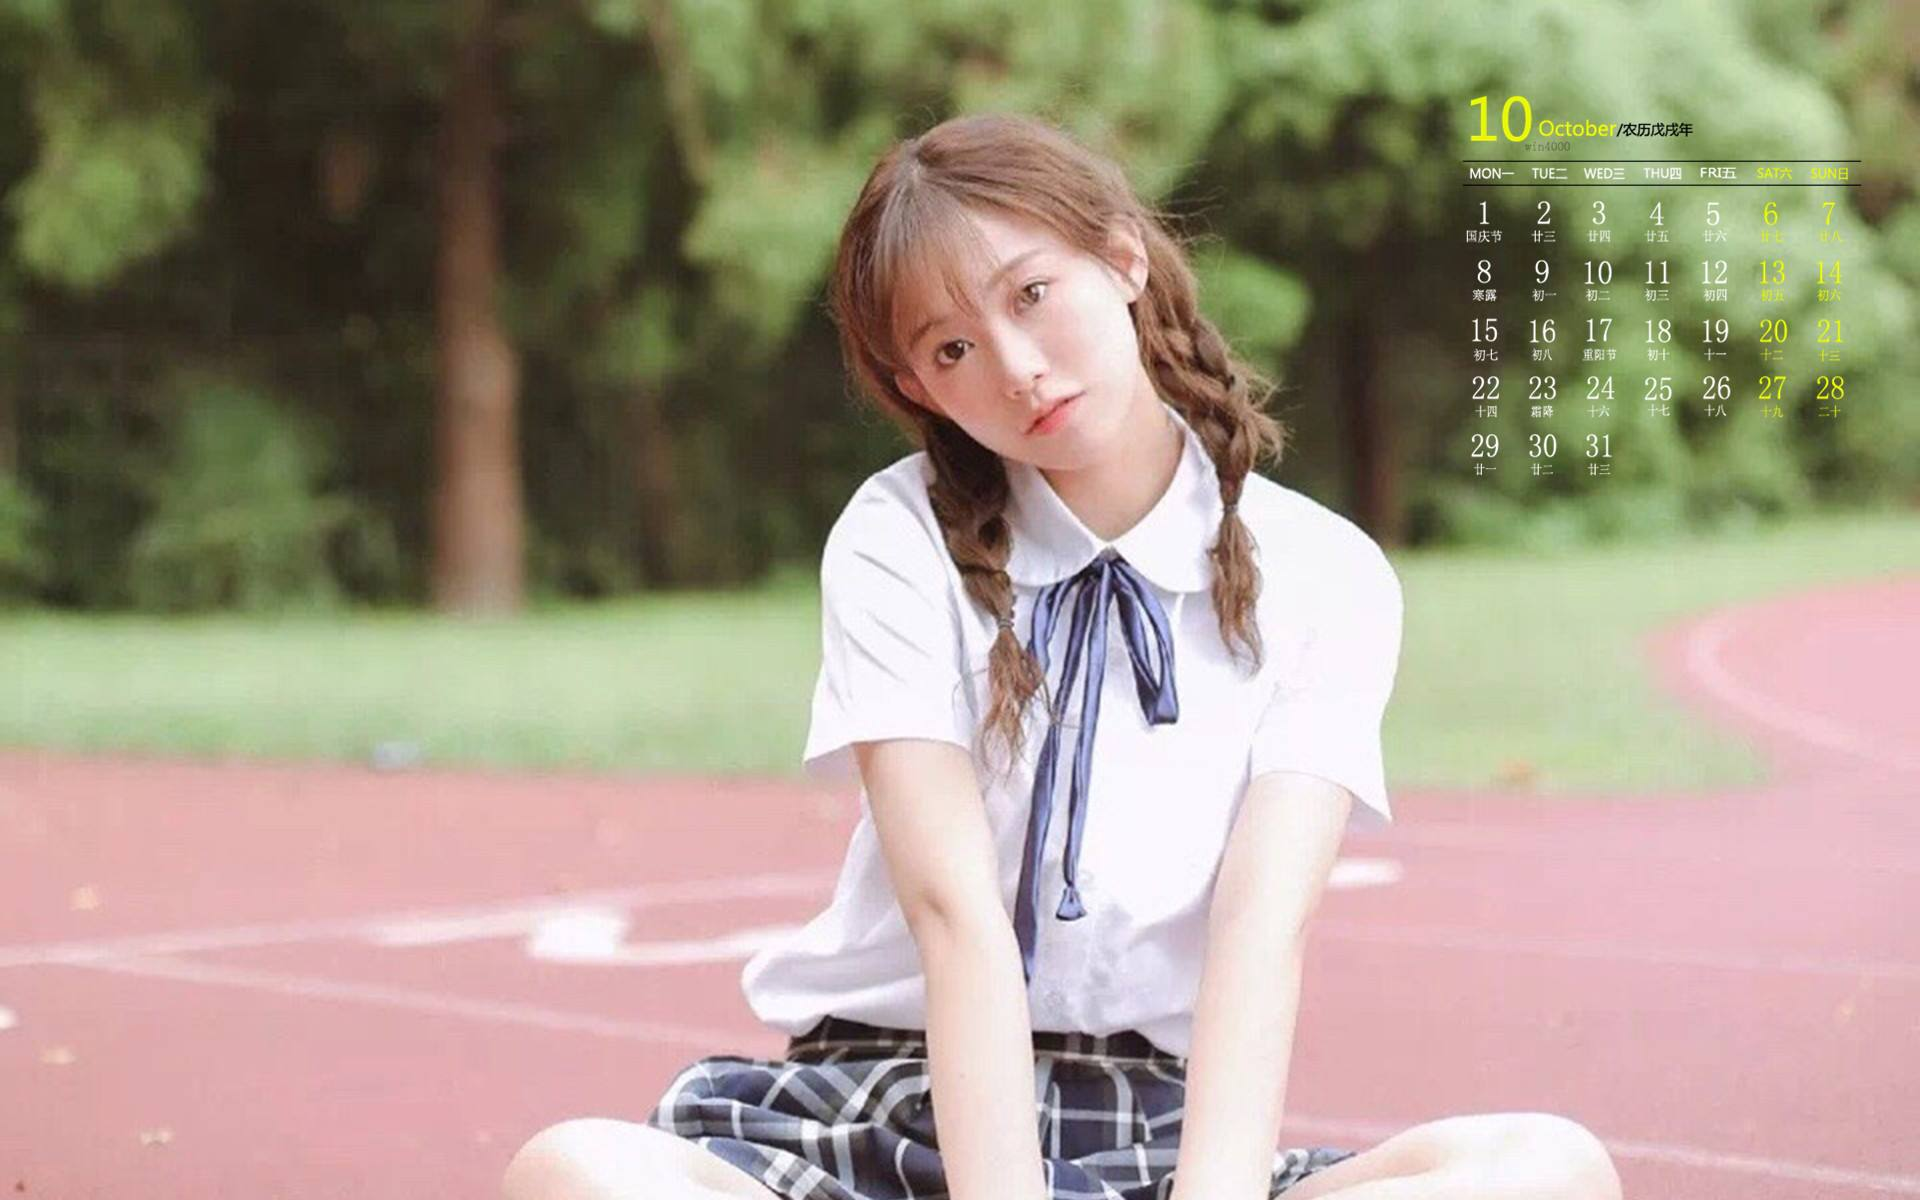person: (761, 108, 1373, 1113)
